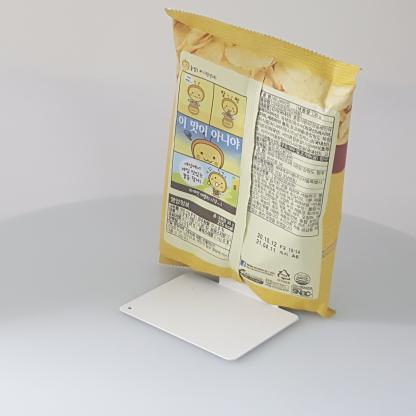Plastic Packaging: (152, 3, 368, 323)
